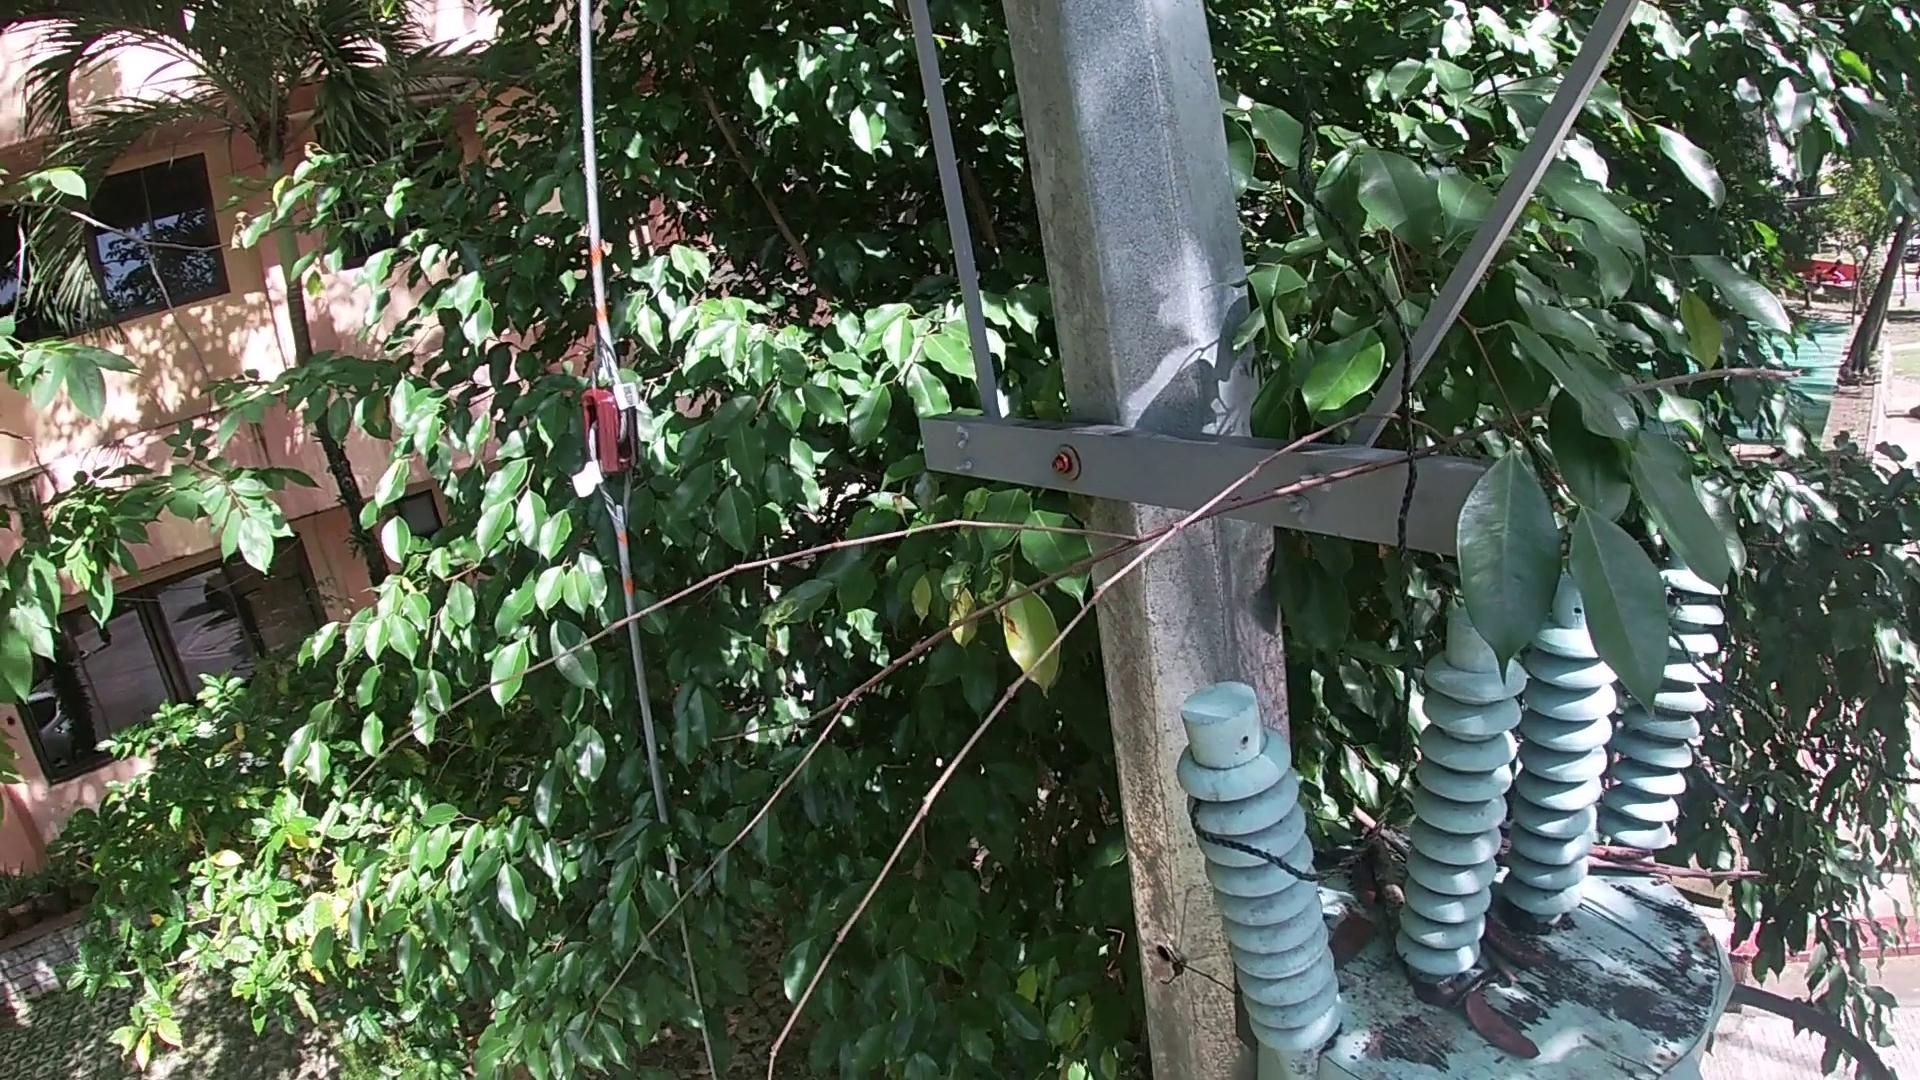leaf: (1394, 963, 1452, 1004)
mahogany fruit: (1472, 981, 1540, 1065), (1485, 920, 1549, 971)
tree branch: (1592, 898, 1712, 994), (1584, 843, 1782, 881), (1352, 832, 1403, 930), (1349, 803, 1407, 851), (1487, 951, 1536, 990), (1532, 956, 1611, 975)
